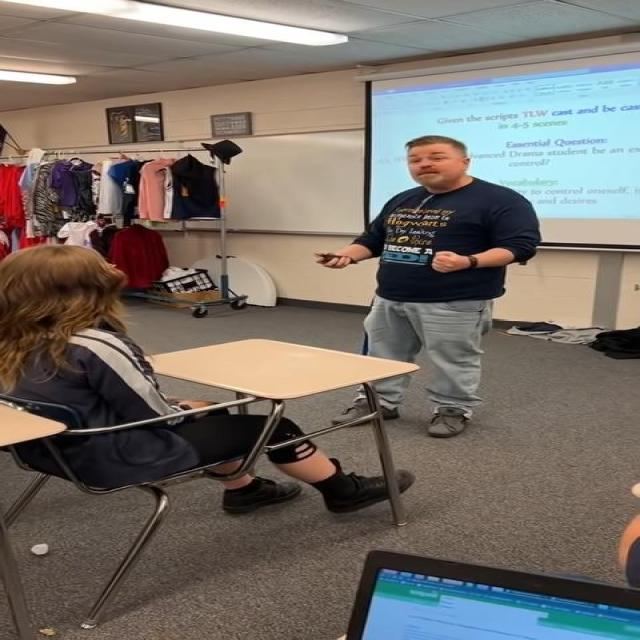NO-Mask: (408, 141, 465, 186)
